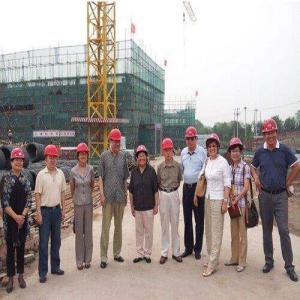red: (262, 120, 280, 147), (44, 145, 59, 171), (229, 139, 245, 163), (10, 150, 26, 173), (109, 129, 123, 155), (206, 135, 221, 157), (77, 143, 90, 167), (185, 127, 198, 150), (137, 146, 149, 168), (162, 139, 174, 160)
